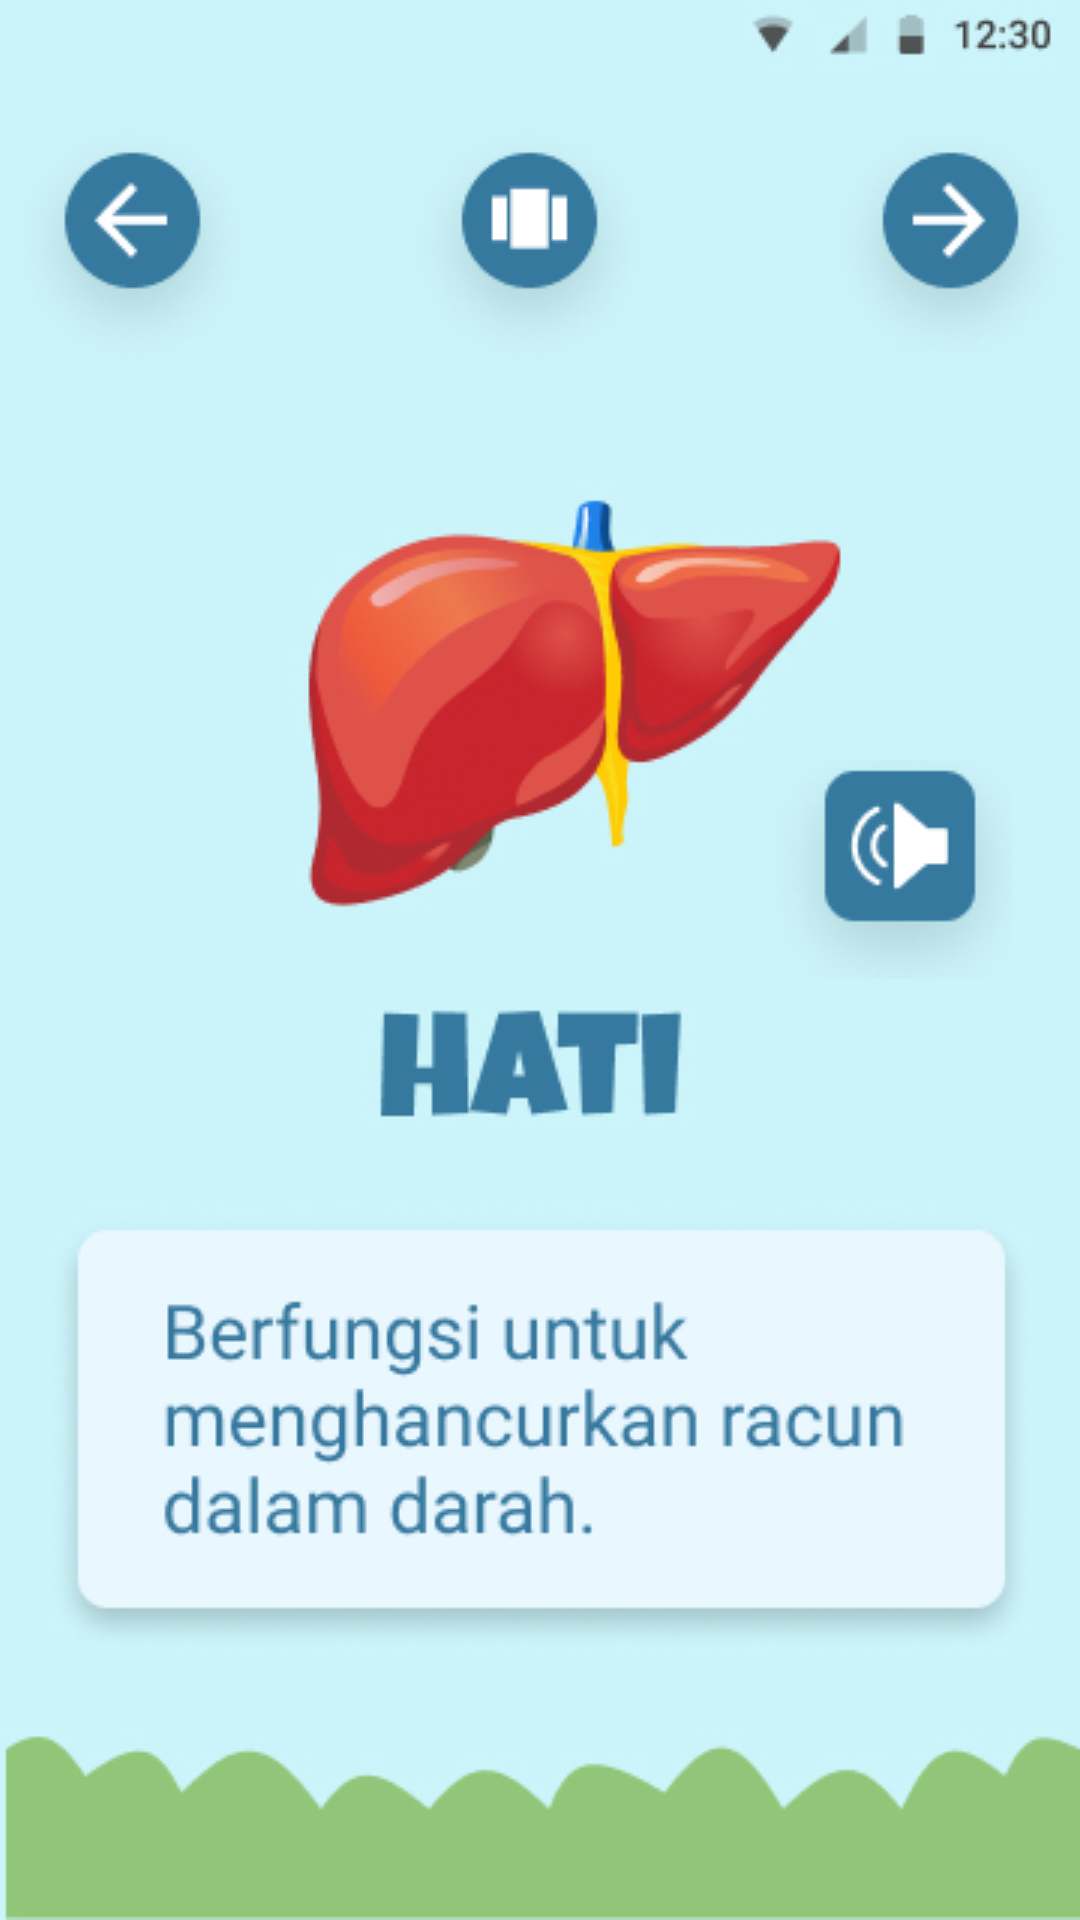

Icons on this 1080 × 1920 Android screen, each with the point to tap as (x,y):
audio: (900,851)
